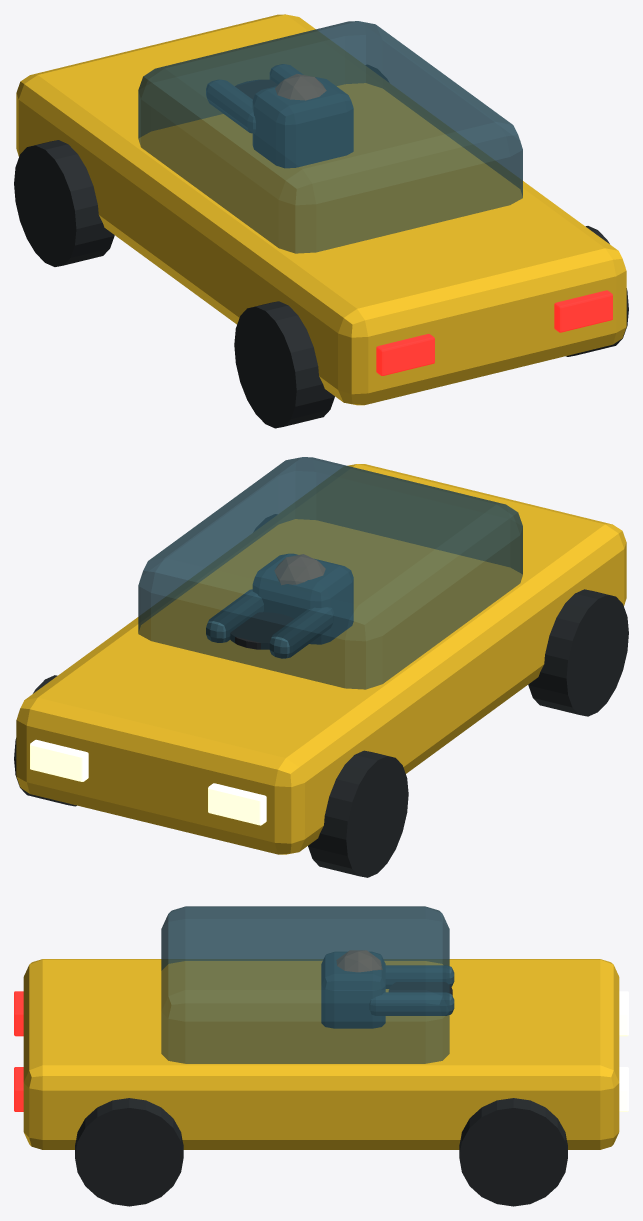
File: dashcar.glb
3 renders of one model, top to bottom at view 1: azimuth 30°, elevation 25°; view 2: azimuth 150°, elevation 25°; view 3: azimuth 270°, elevation 25°, orthographic. The views are drawn at different scales.
Parts seen in each view (by area): view 1: Body, Cabin, Wheel_LR, Wheel_LF, Driver_Torso, Taillight_0.56, Taillight_-0.56, Driver_LeftArm, Driver_Head; view 2: Body, Cabin, Wheel_LF, Wheel_LR, Driver_Torso, Driver_LeftArm, Headlight_-0.56, Headlight_0.56, Driver_RightArm, SteeringWheel, Driver_Head; view 3: Body, Cabin, Wheel_RF, Wheel_RR, Driver_Torso, Driver_RightArm, Driver_LeftArm, Driver_Head, SteeringWheel, Headlight_-0.56, Taillight_-0.56, Headlight_0.56 (+1 smaller).
Part boxes in pixels (box(x1,y1,x2,y2)): Body: box(16, 14, 626, 405); Cabin: box(138, 21, 522, 253); Wheel_LR: box(234, 301, 334, 428); Wheel_LF: box(14, 140, 114, 266); Driver_Torso: box(253, 77, 353, 167); Taillight_0.56: box(554, 290, 612, 332); Taillight_-0.56: box(376, 333, 434, 375); Driver_LeftArm: box(206, 80, 255, 133); Driver_Head: box(275, 74, 326, 100); Body: box(16, 464, 626, 854); Cabin: box(138, 457, 522, 689); Wheel_LF: box(308, 750, 408, 877); Wheel_LR: box(528, 589, 628, 716); Driver_Torso: box(253, 554, 353, 644); Driver_LeftArm: box(269, 607, 333, 658); Headlight_-0.56: box(208, 783, 266, 825); Headlight_0.56: box(30, 739, 88, 781); Driver_RightArm: box(206, 589, 263, 642); SteeringWheel: box(230, 612, 293, 649); Driver_Head: box(274, 554, 325, 584); Body: box(23, 959, 619, 1149); Cabin: box(161, 906, 449, 1063); Wheel_RF: box(459, 1098, 567, 1206); Wheel_RR: box(75, 1098, 183, 1206); Driver_Torso: box(321, 952, 385, 1028); Driver_RightArm: box(369, 992, 454, 1015); Driver_LeftArm: box(386, 965, 454, 988); Driver_Head: box(336, 950, 382, 971); SteeringWheel: box(389, 982, 452, 995); Headlight_-0.56: box(619, 991, 628, 1036); Taillight_-0.56: box(14, 991, 23, 1036); Headlight_0.56: box(619, 1067, 628, 1111).
Size of the model in its own units: 2.09 by 1.29 by 3.84.
